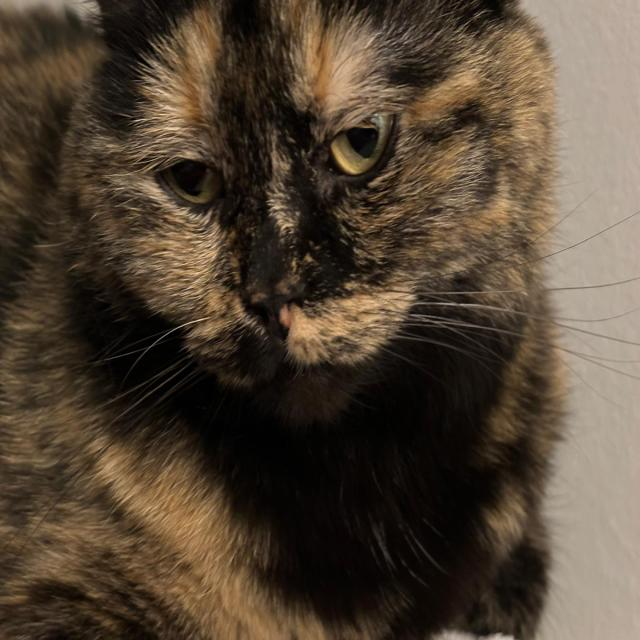authorized: (1, 1, 637, 638)
